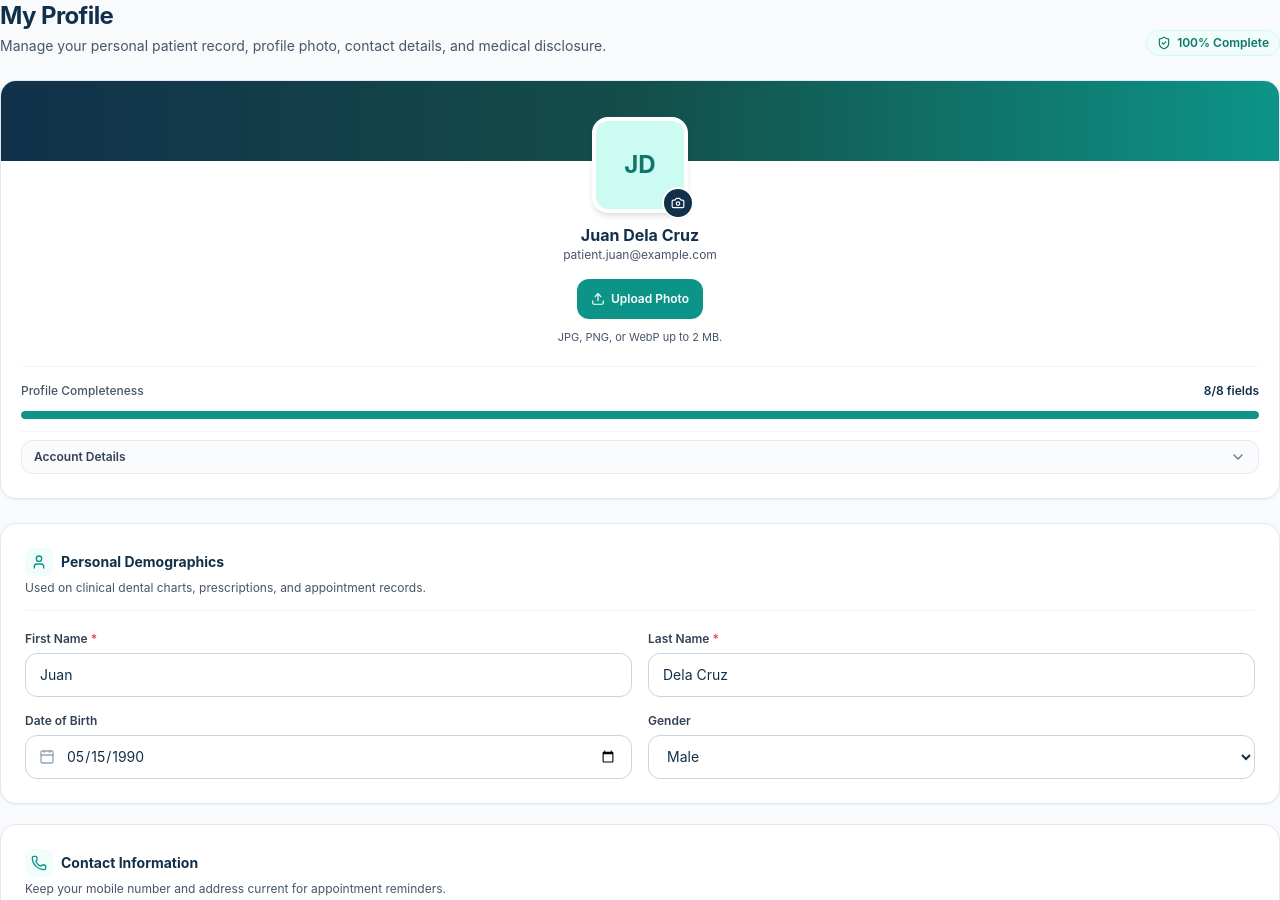
Test: PatientProfilePage Component › keeps Account Details minimized by default and toggles open/closed as a dropdown
expect the field showing "Juan" is shown: met, box x1=25 y1=652 x2=632 y2=696
Click the button "Account Details".
click(80, 456)  # box x1=21 y1=440 x2=1259 y2=474
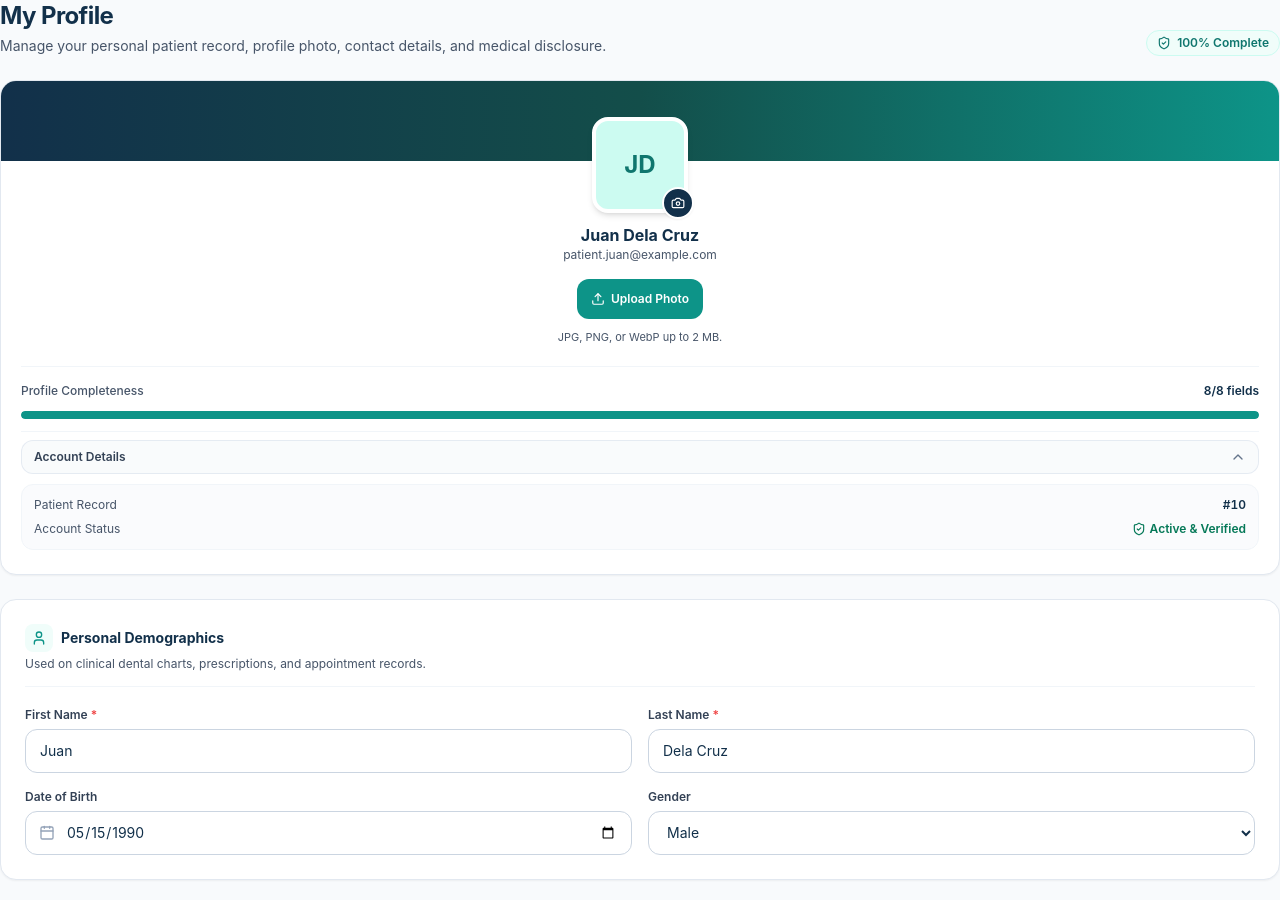
expect the button "Account Details" is expanded: met
expect the text "Patient Record" is shown: met, box x1=34 y1=496 x2=117 y2=512
expect the text "#10" is shown: met, box x1=1223 y1=496 x2=1246 y2=512
Click the button "Account Details".
click(80, 456)  # box x1=21 y1=440 x2=1259 y2=474
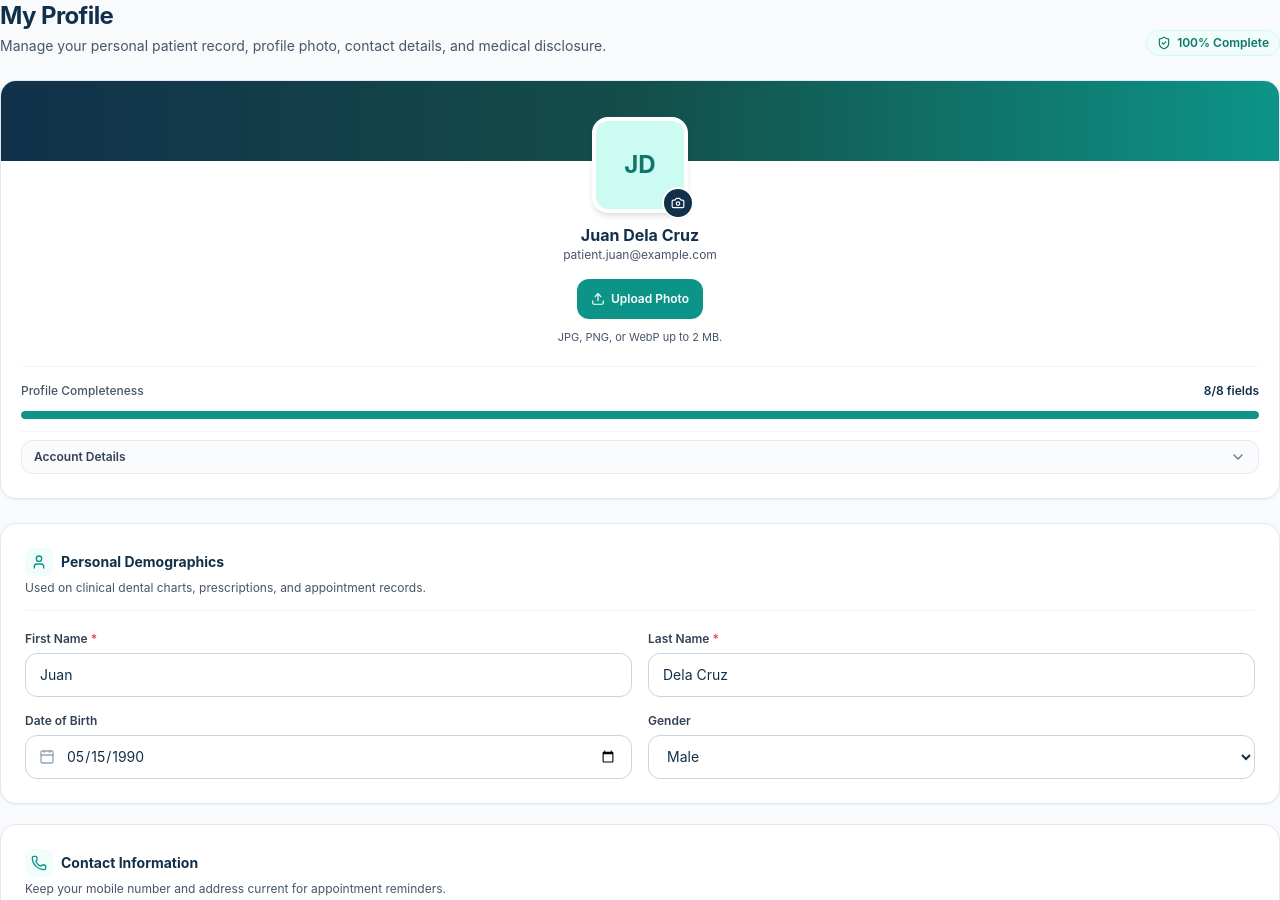
expect the button "Account Details" is collapsed: met, box x1=21 y1=440 x2=1259 y2=474
